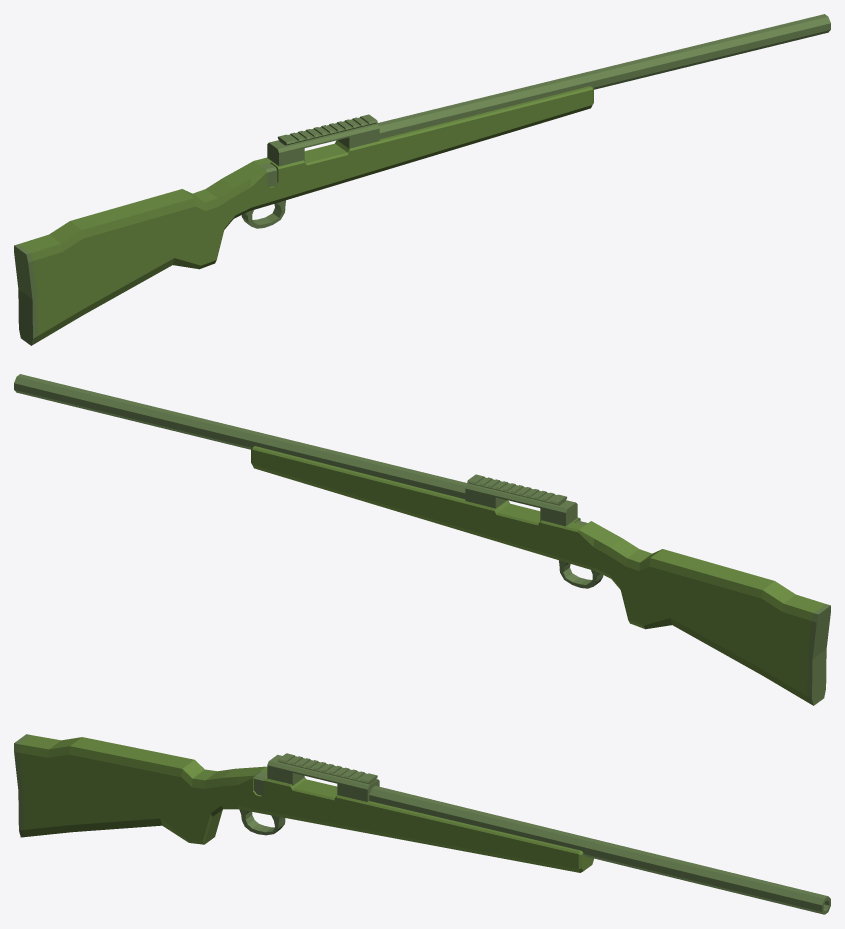
Rendered from SniperRifle3_01.fbx.
3 views of the same model, one above another, from view 1: azimuth 30°, elevation 25°; view 2: azimuth 150°, elevation 25°; view 3: azimuth 330°, elevation 25° (orthographic).
Parts seen in each view (by area): view 1: SniperRifle3_01; view 2: SniperRifle3_01; view 3: SniperRifle3_01.
Boxes of the visible parts, left/top/right/bottom form: SniperRifle3_01: left=14, top=14, right=830, bottom=345; SniperRifle3_01: left=14, top=374, right=830, bottom=705; SniperRifle3_01: left=14, top=734, right=830, bottom=914.
Size of the model in its own units: 1.22 by 0.2029 by 0.0371.
